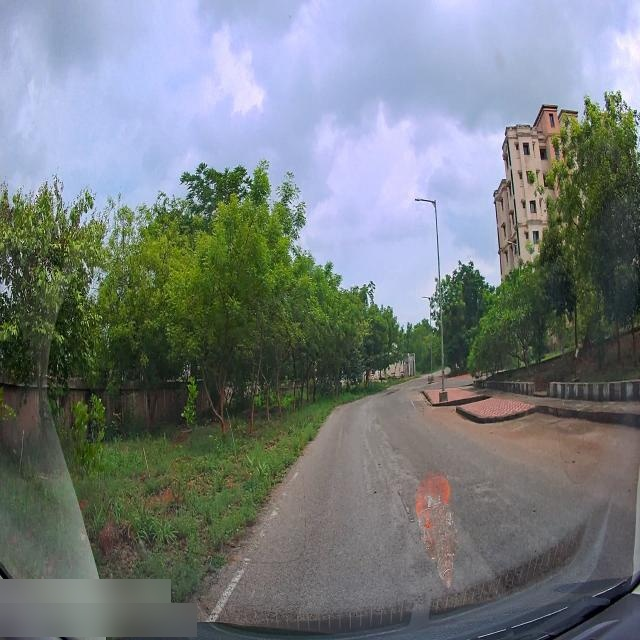pothole: (471, 474, 498, 510), (393, 460, 424, 485), (371, 410, 385, 435), (384, 438, 398, 460)
